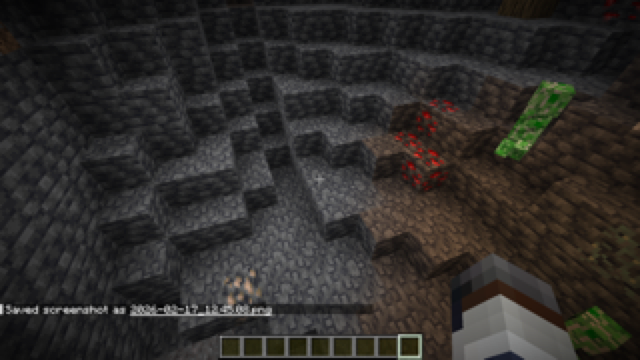iron: (214, 269, 262, 306)
redstone: (391, 94, 460, 199)
